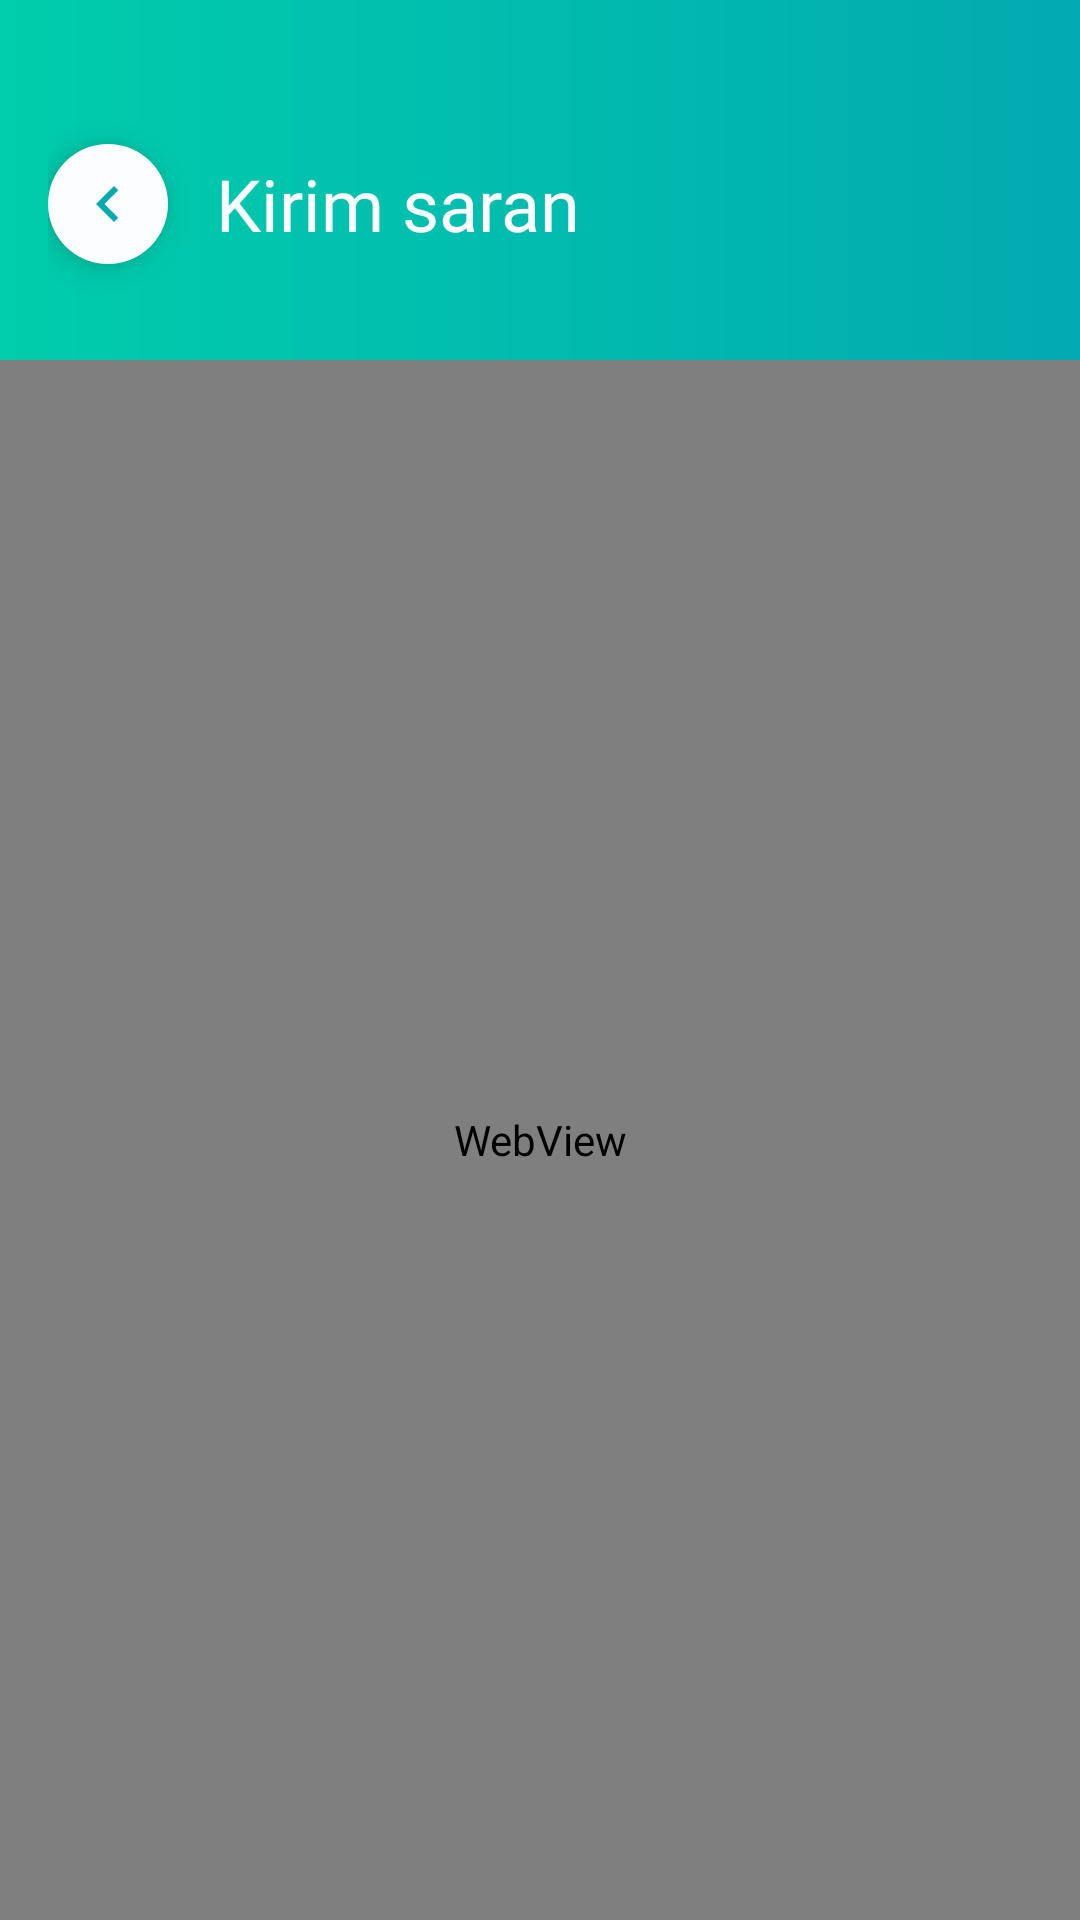

Icons on this 1080x1920 Android screen, each with the point to tap as [x,y]:
chevron left cyan: [108,204]
